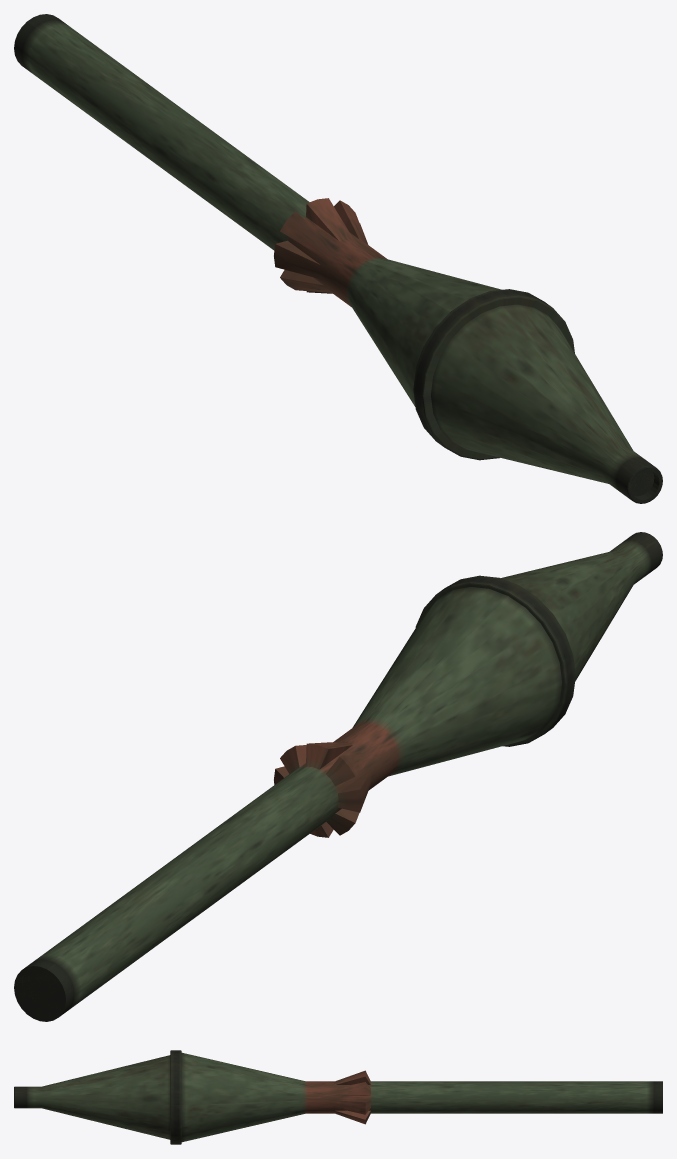
The model's file is Rocket.FBX.
3 views of the same model, one above another, from view 1: azimuth 30°, elevation 25°; view 2: azimuth 150°, elevation 25°; view 3: azimuth 270°, elevation 25° (orthographic). The views are drawn at different scales.
Visible parts, largest first — view 1: Rocket; view 2: Rocket; view 3: Rocket.
Part boxes in pixels (box(x1,y1,x2,y2)): Rocket: box(14, 14, 662, 503); Rocket: box(14, 532, 662, 1021); Rocket: box(14, 1050, 662, 1144).
Bounding box in the file's own units: 8.93 × 8.93 × 61.14.
1 material, 1 textured.
